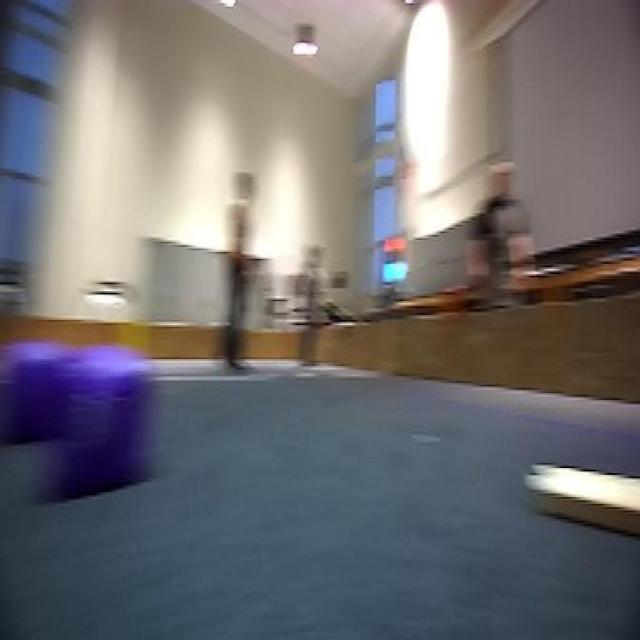frc_cube: (52, 366, 150, 526), (0, 333, 72, 444)
